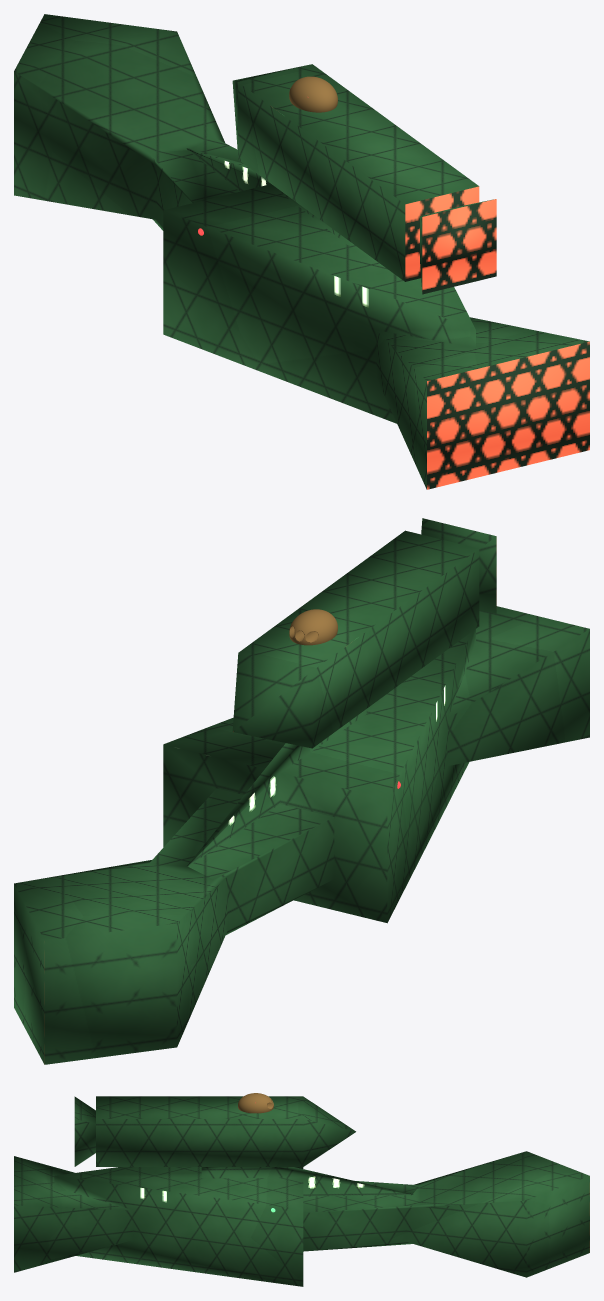
File: krelath_frigate.glb
3 renders of one model, top to bottom at view 1: azimuth 30°, elevation 25°; view 2: azimuth 150°, elevation 25°; view 3: azimuth 270°, elevation 25°, orthographic. The views are drawn at different scales.
Visible parts, largest first — view 1: KrelathFrigate; view 2: KrelathFrigate; view 3: KrelathFrigate.
Part boxes in pixels (x1,y1,x2,y2): KrelathFrigate: (14,14,589,489); KrelathFrigate: (14,518,589,1064); KrelathFrigate: (14,1093,589,1286).
Bounding box in the file's own units: 12 × 13.79 × 43.
1 material, 1 textured.
